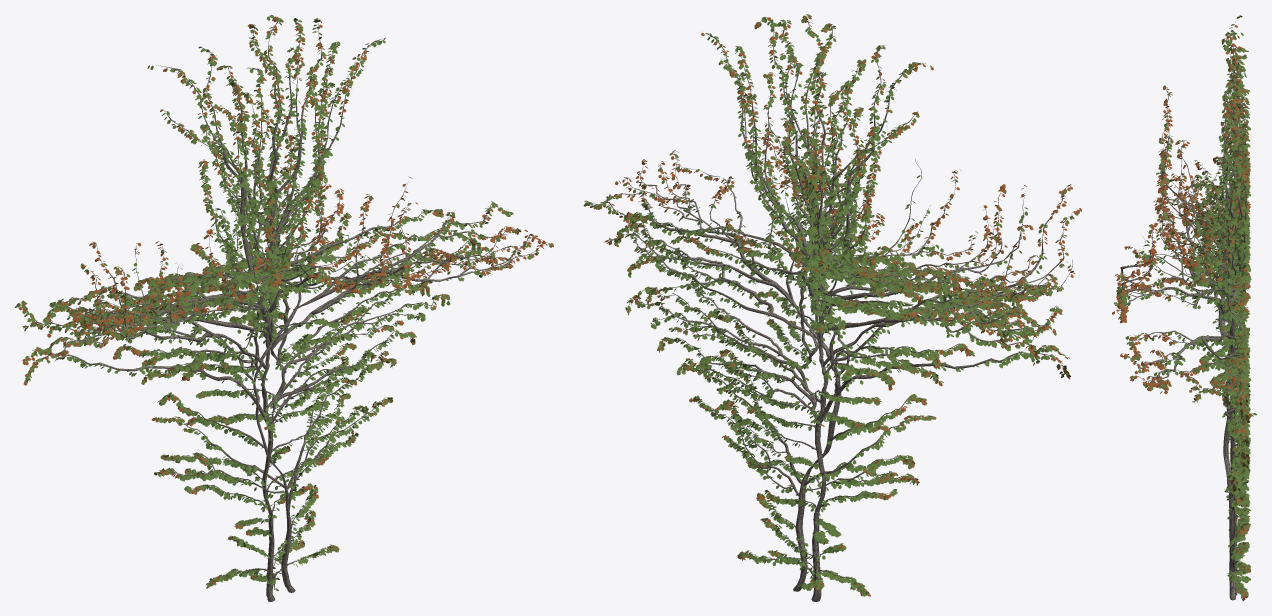
The model's file is vine_with_leaves.obj.
3 renders of one model, left to right at view 1: azimuth 30°, elevation 25°; view 2: azimuth 150°, elevation 25°; view 3: azimuth 270°, elevation 25°, orthographic. The views are drawn at different scales.
Visible parts, largest first — view 1: Mesh; view 2: Mesh; view 3: Mesh.
Boxes of the visible parts, left/top/right/bottom form: Mesh: left=14, top=14, right=553, bottom=601; Mesh: left=583, top=14, right=1081, bottom=601; Mesh: left=1112, top=15, right=1257, bottom=600.
Bounding box in the file's own units: 7.65 × 8.69 × 2.13.
Materials: 3 (3 with a texture image).
